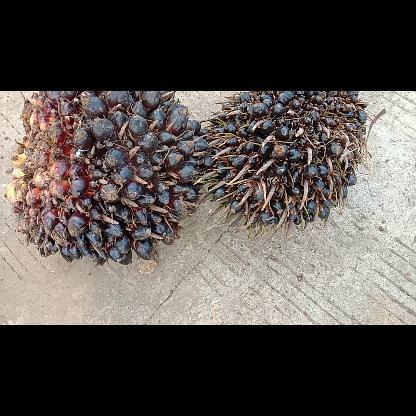TBS mentah: (4, 90, 209, 266), (202, 91, 376, 231)
